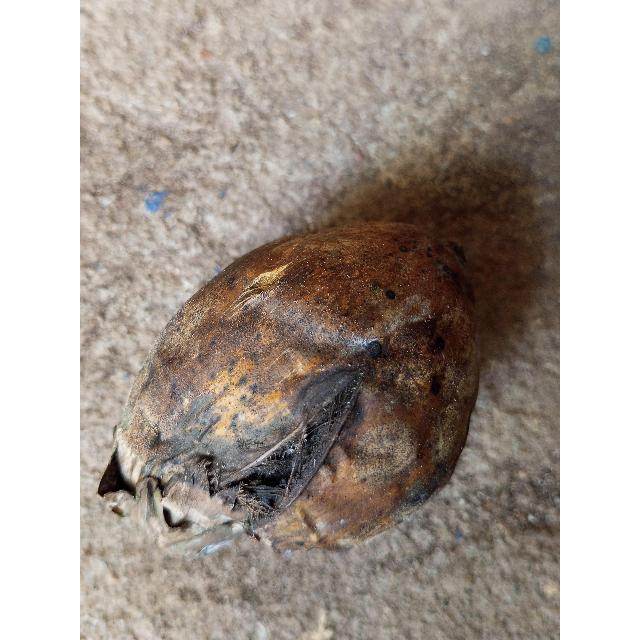damaged: (99, 223, 479, 555)
